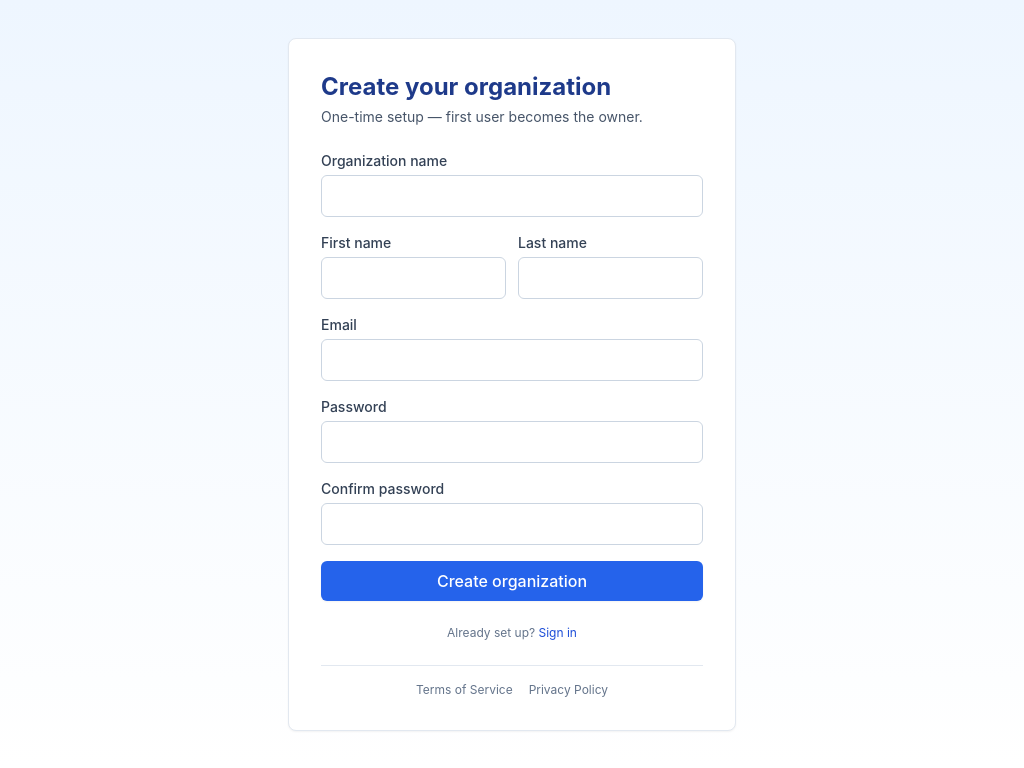
Test: SignupPage › shows the already-bootstrapped message and a sign-in link on FORBIDDEN
Type "Acme Co" into the field labelled "Organization name" at (512, 196), box [321,174,703,216]
Type "Ada" into the field labelled "First name" at (414, 278), box [321,256,506,298]
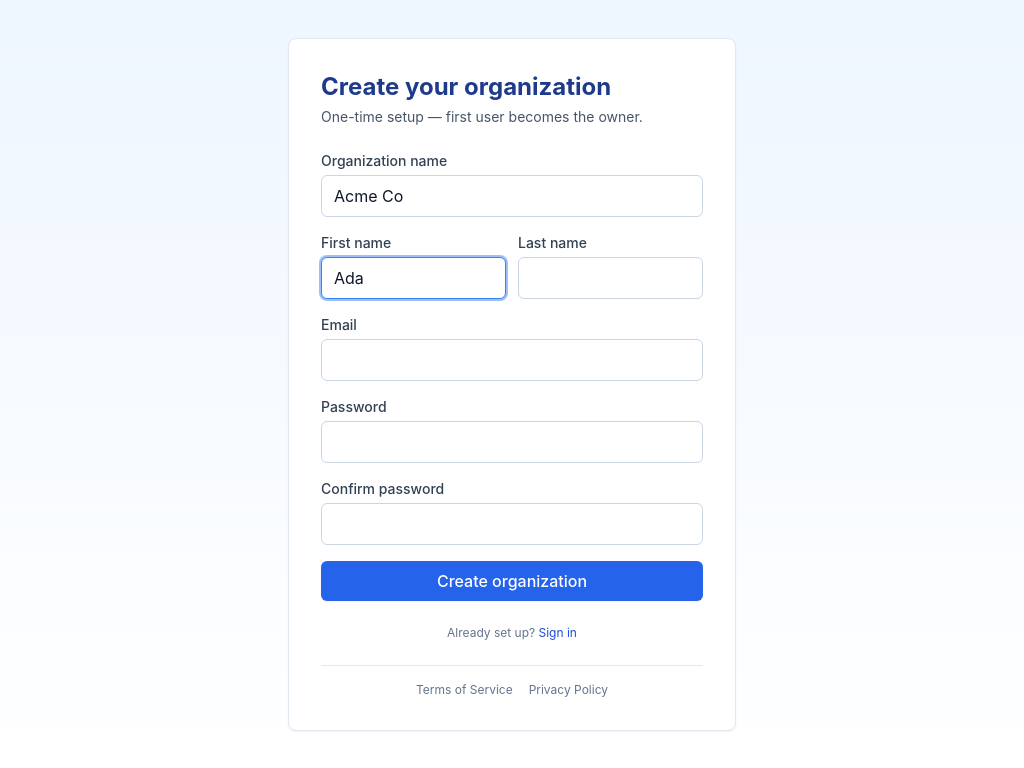
Type "Lovelace" into the field labelled "Last name" at (610, 278), box [518,256,703,298]
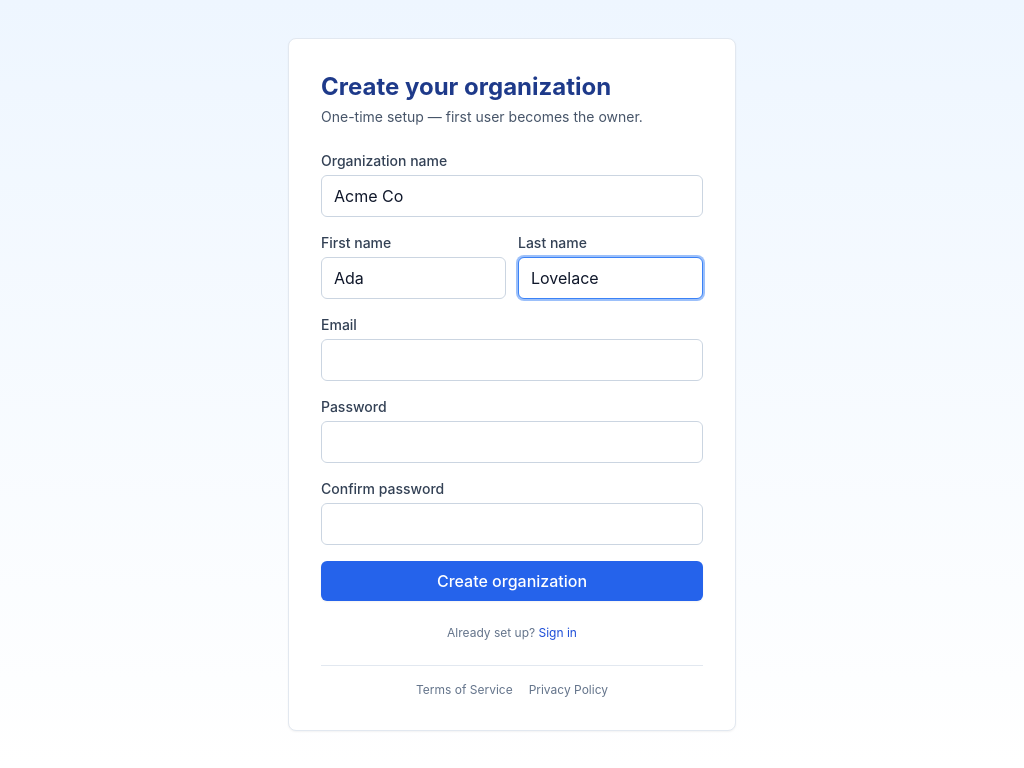
Type "ada@acme.test" into the field labelled "Email" at (512, 360), box [321,338,703,380]
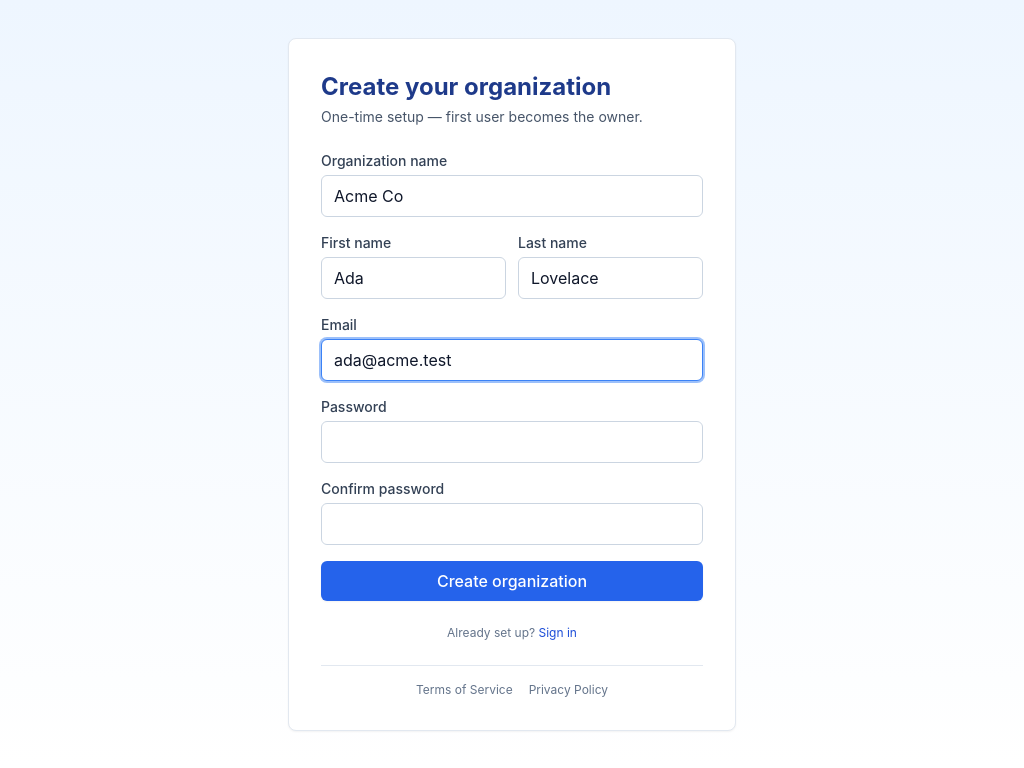
Type "password123" into the password field labelled "Password" at (512, 442), box [321,420,703,462]
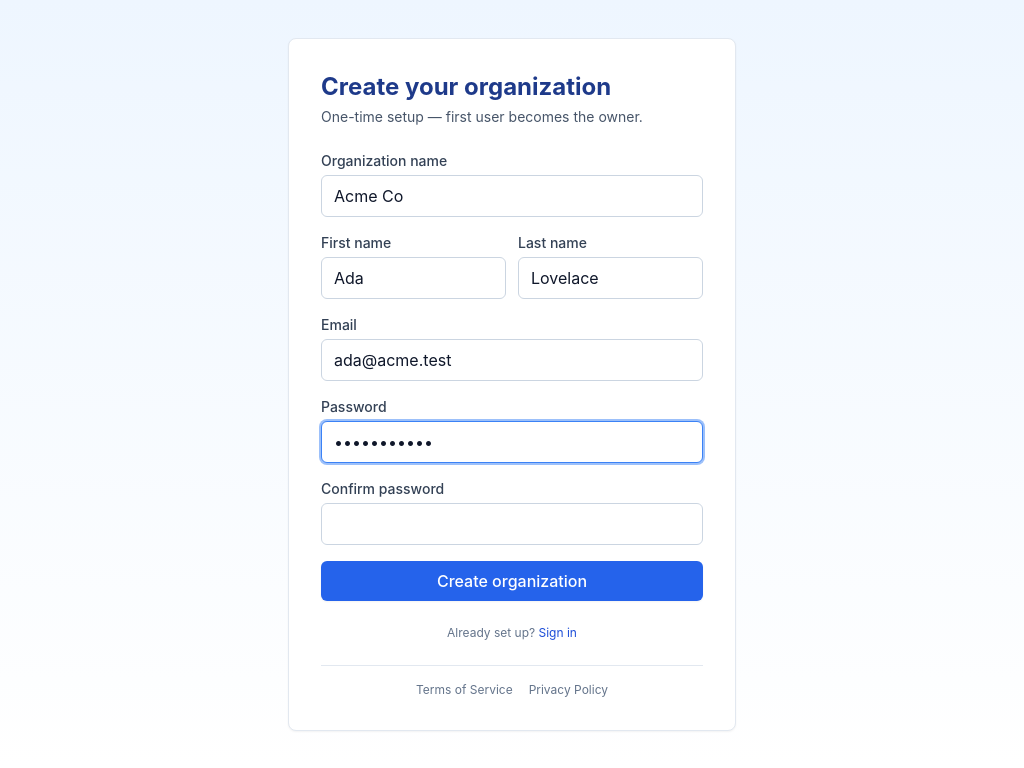
Type "password123" into the password field labelled "Confirm password" at (512, 524), box [321,502,703,544]
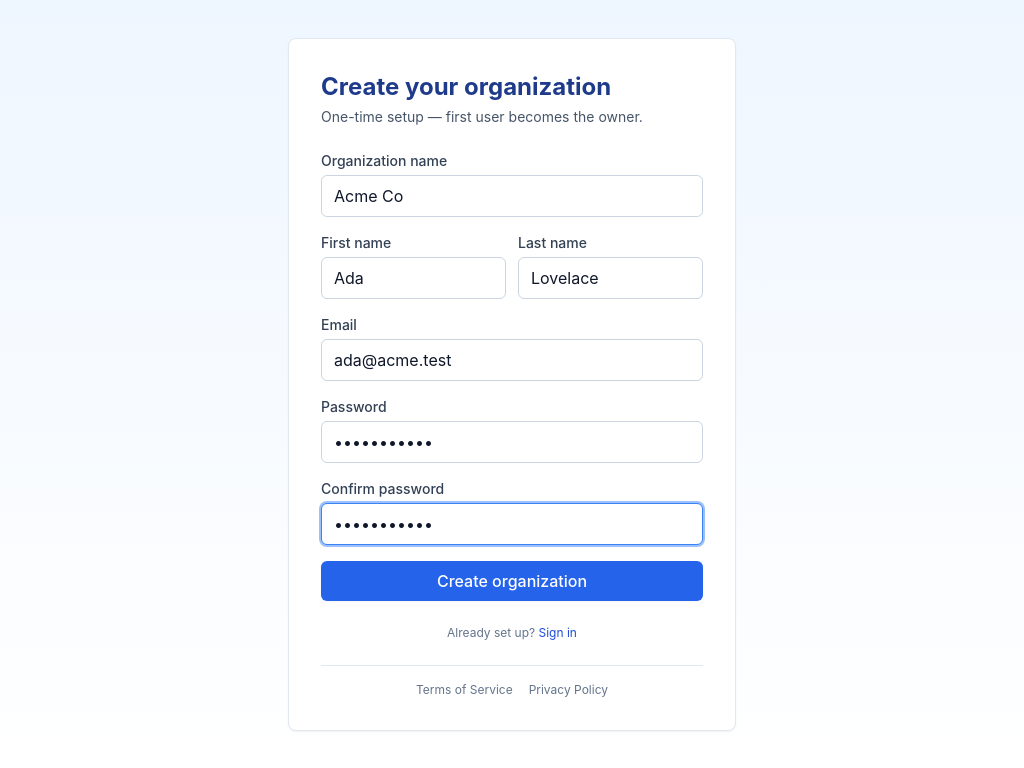
Click the button "Create organization" at (512, 580), box [321,560,703,600]
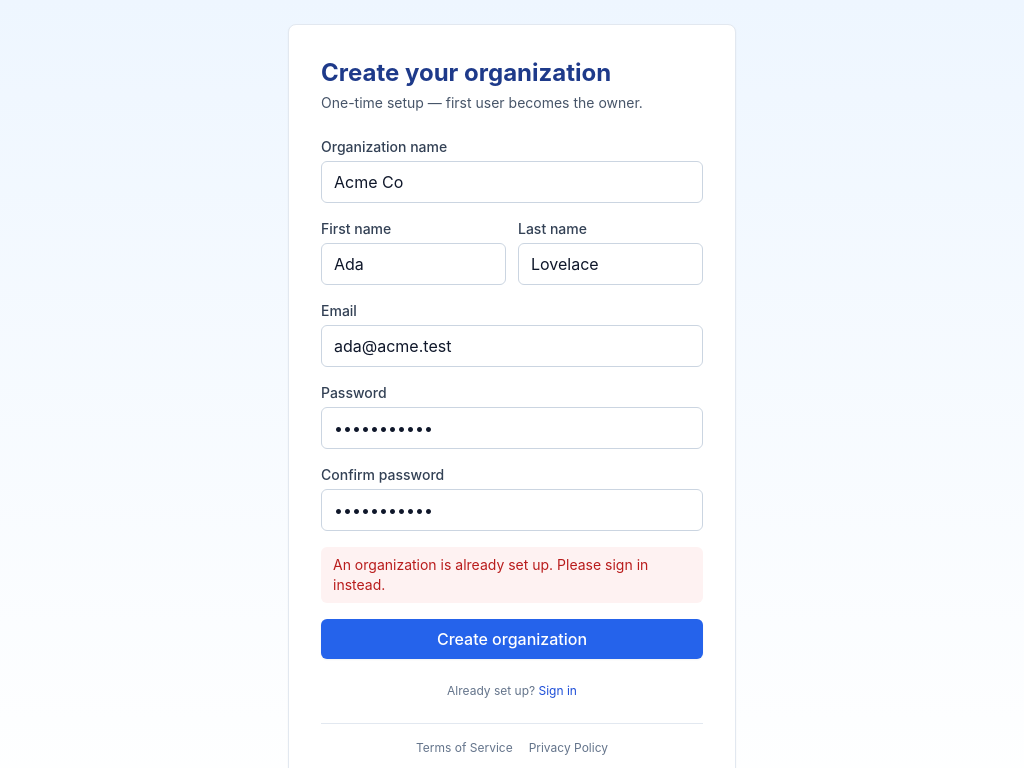
Expected: the text "An organization is already set up. Please sign in instead." is shown, [321,547,703,603]
